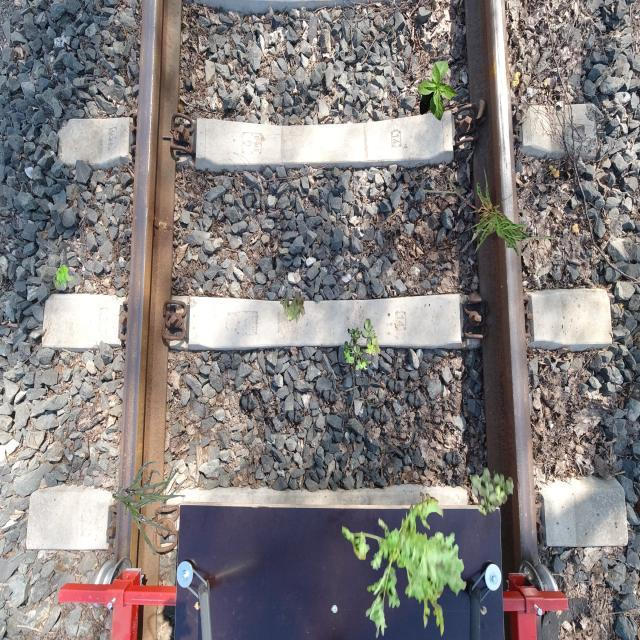Plant: (342, 492, 467, 639), (423, 167, 566, 257), (113, 462, 186, 556), (418, 61, 460, 121), (470, 467, 514, 517), (343, 319, 380, 374), (280, 292, 306, 324), (54, 265, 74, 290)
